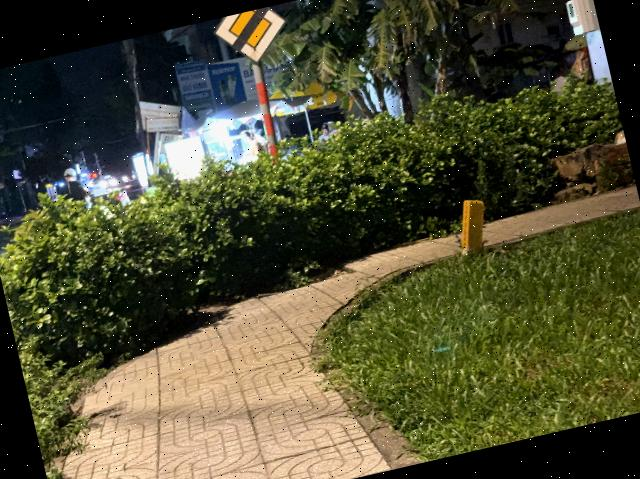het-duong-uu-tien: (210, 2, 296, 73)
